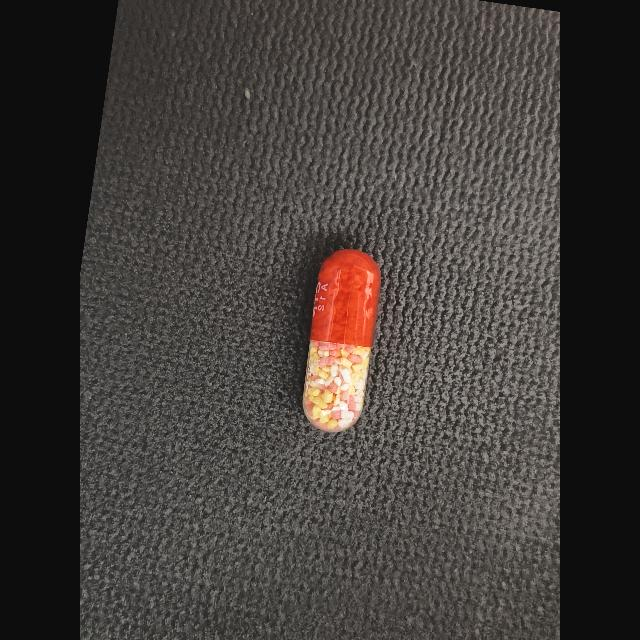Intact Capsule: (303, 250, 381, 433)
